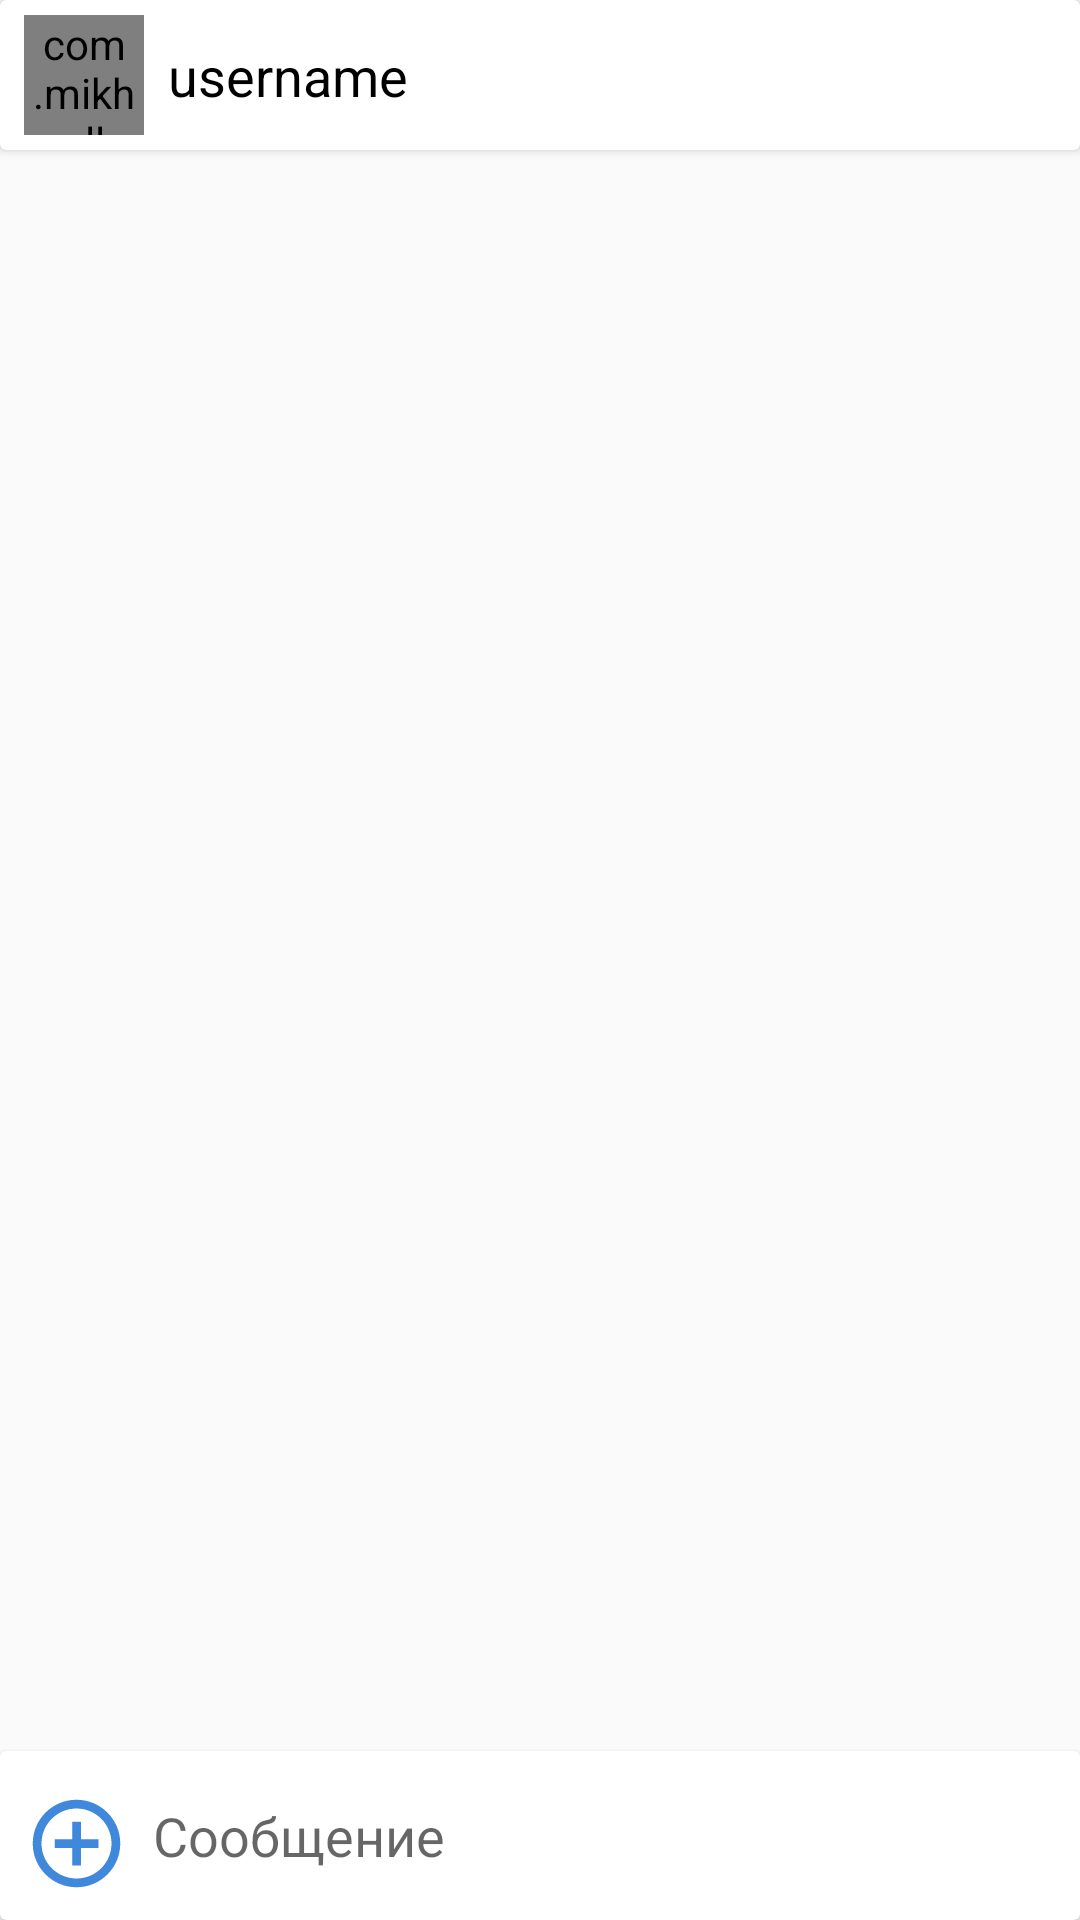

Locate icon controls on the screen. Image size 1080*1920, boxes as bbox(x1, y1, x2, y2).
add circle: bbox(32, 1799, 121, 1888)
